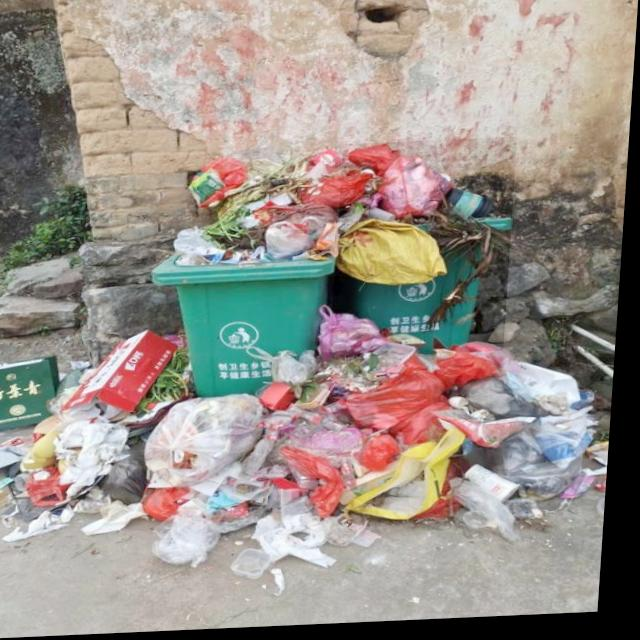garbage: (0, 296, 622, 606)
overflow: (148, 152, 348, 403), (335, 142, 519, 362)
